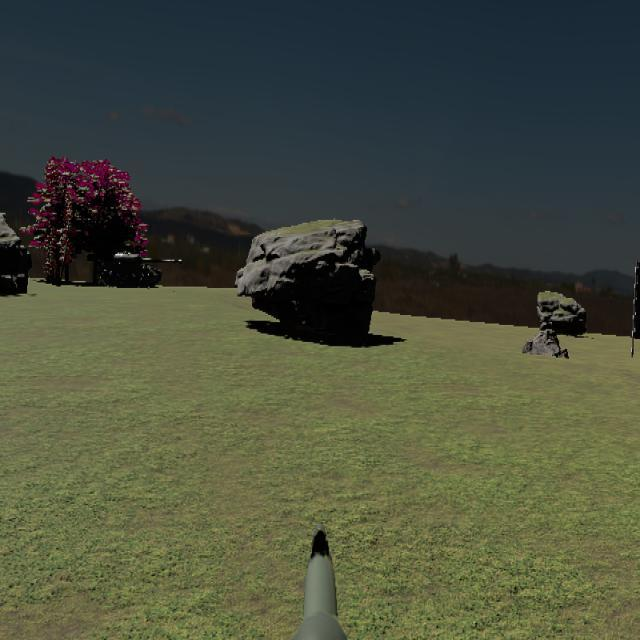Tank: (100, 250, 183, 288)
